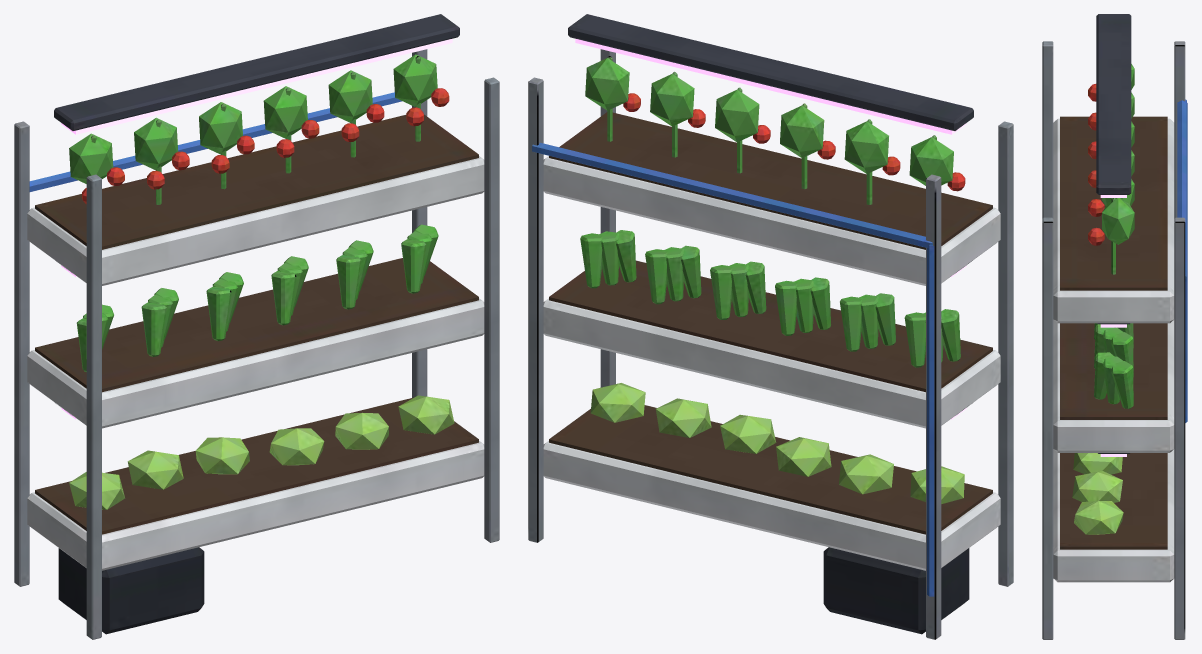
File: hydroponics-rack.glb
The picture shows the model from 3 angles, left to right: view 1: azimuth 30°, elevation 25°; view 2: azimuth 150°, elevation 25°; view 3: azimuth 270°, elevation 25°; orthographic projection. The views are drawn at different scales.
Visible parts, largest first — view 1: Soil2, Soil1, Trough1, Trough2, Trough0, Soil0, LampHousing2, Reservoir, Post1-1, Post-1-1, Post-11, GrowLamp2 (+19 smaller); view 2: Soil2, Trough1, Trough2, Trough0, Soil0, Soil1, LampHousing2, Reservoir, WaterLine, Post11, Post-1-1, Post-11 (+31 smaller); view 3: Soil2, Soil1, Soil0, Trough2, LampHousing2, Trough0, Trough1, Post1-1, Post11, Post-1-1, WaterLine, Lettuce5 (+12 smaller).
Boxes of the visible parts, x1,y1,x2,y2 form: Soil2: [35, 114, 478, 249]; Soil1: [35, 258, 478, 392]; Trough1: [27, 298, 484, 428]; Trough2: [27, 156, 484, 285]; Trough0: [27, 441, 484, 570]; Soil0: [35, 397, 478, 534]; LampHousing2: [54, 14, 459, 130]; Reservoir: [58, 547, 204, 634]; Post1-1: [484, 77, 499, 542]; Post-1-1: [86, 174, 101, 639]; Post-11: [14, 121, 29, 586]; GrowLamp2: [61, 38, 452, 134]; Soil2: [549, 112, 992, 249]; Trough1: [543, 298, 1000, 428]; Trough2: [543, 156, 1000, 285]; Trough0: [543, 441, 1000, 570]; Soil0: [549, 405, 992, 534]; Soil1: [549, 260, 992, 392]; LampHousing2: [568, 14, 973, 130]; Reservoir: [823, 547, 969, 634]; WaterLine: [532, 142, 934, 596]; Post11: [528, 77, 543, 542]; Post-1-1: [998, 121, 1013, 586]; Post-11: [926, 174, 941, 639]; Soil2: [1060, 116, 1167, 290]; Soil1: [1060, 323, 1167, 419]; Soil0: [1060, 453, 1167, 549]; Trough2: [1053, 118, 1174, 323]; LampHousing2: [1096, 14, 1131, 194]; Trough0: [1053, 449, 1174, 582]; Trough1: [1053, 319, 1174, 452]; Post1-1: [1042, 217, 1053, 639]; Post11: [1174, 217, 1185, 639]; Post-1-1: [1042, 41, 1053, 218]; WaterLine: [1177, 99, 1187, 422]; Lettuce5: [1074, 501, 1123, 534].
Size of the model in its own units: 1.95 by 2.33 by 0.66.
Materials: 10 (10 with a texture image).
